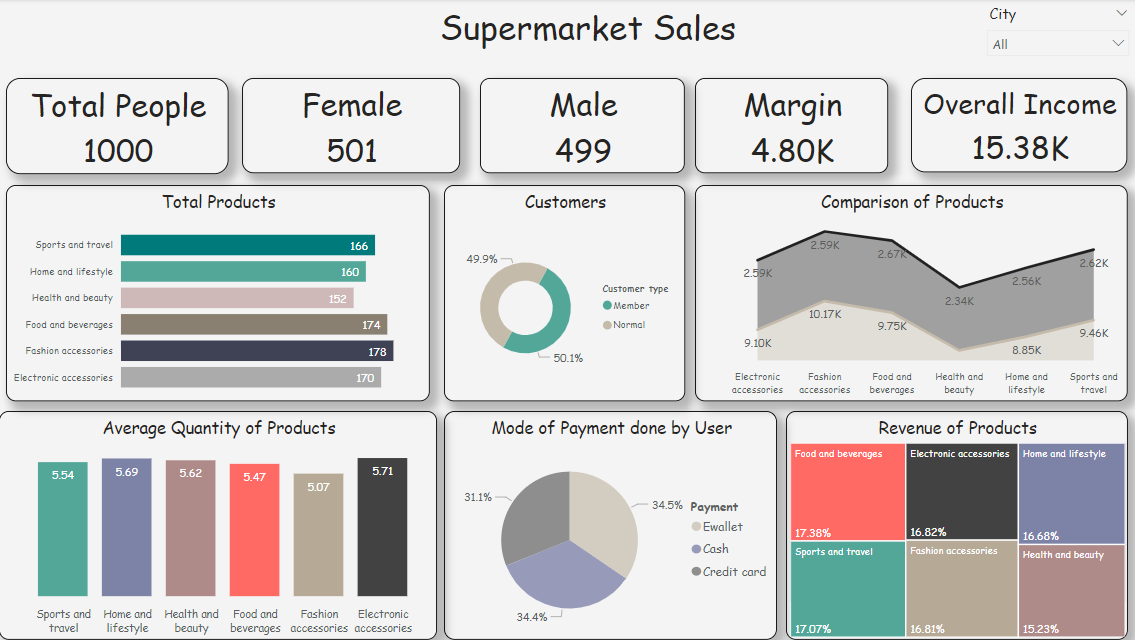

The dashboard page shown, as its layout file describes it:
{"tool":"powerbi","page":{"name":"Page 1","canvas":[1280,720],"ordinal":0},"visuals":[{"type":"card","title":"Total People ","fields":{"Values":["CountNonNull(SuperMarket Sales.Gender)"]},"box":[8.1,88.4,250,108.1],"z":0},{"type":"card","title":"Overall Income ","fields":{"Values":["Sum(SuperMarket Sales.gross income)"]},"box":[1024.4,88.4,243,105.8],"z":1000},{"type":"card","title":"Female","fields":{"Values":["CountNonNull(SuperMarket Sales.Gender)"]},"box":[273.3,88.4,245.3,107],"z":2000},{"type":"card","title":"Male","fields":{"Values":["CountNonNull(SuperMarket Sales.Gender)"]},"box":[540.7,88.4,230.2,107],"z":3000},{"type":"textbox","box":[464,0,419.8,73.3],"z":4000},{"type":"barChart","title":"Total Products ","fields":{"Category":["SuperMarket Sales.Product line"],"Y":["CountNonNull(SuperMarket Sales.Product line)"],"Series":["SuperMarket Sales.Product line"]},"box":[8.1,209.3,475.6,243],"z":5000},{"type":"donutChart","title":"Customers ","fields":{"Category":["SuperMarket Sales.Customer type"],"Y":["CountNonNull(SuperMarket Sales.Customer type)"]},"box":[500,209.3,270.9,243],"z":6000},{"type":"stackedAreaChart","title":"Comparison of Products ","fields":{"Category":["SuperMarket Sales.Product line"],"Y":["Sum(SuperMarket Sales.Unit price)","Sum(SuperMarket Sales.Tax 5%)"]},"box":[781.4,209.3,486,243],"z":7000},{"type":"columnChart","title":"Average Quantity of Products","fields":{"Category":["SuperMarket Sales.Product line"],"Series":["SuperMarket Sales.Product line"],"Y":["Avg(SuperMarket Sales.Quantity)"]},"box":[0,462.8,491.9,257],"z":8000},{"type":"pieChart","title":"Mode of Payment done by User ","fields":{"Category":["SuperMarket Sales.Payment"],"Y":["CountNonNull(SuperMarket Sales.Payment)"]},"box":[500,462.8,374.4,257],"z":9000},{"type":"card","title":"Margin","fields":{"Values":["Sum(SuperMarket Sales.Margin )"]},"box":[781.4,88.4,217.4,107],"z":10000},{"type":"treemap","title":"Revenue of Products","fields":{"Group":["SuperMarket Sales.Product line"],"Values":["Sum(SuperMarket Sales.gross income)"]},"box":[883.7,462.8,383.7,257],"z":11000},{"type":"slicer","fields":{"Values":["SuperMarket Sales.City"]},"box":[1100,0,180.2,73.3],"z":12000}]}

Visuals, with their boxes in screenshot pixels (x1, y1, x2, y2), scaled from the page's 1280x720 canvas onto the 1135x640 screenshot:
"Total People " card: <bbox>7, 79, 229, 175</bbox>
"Overall Income " card: <bbox>908, 79, 1124, 173</bbox>
"Female" card: <bbox>242, 79, 460, 174</bbox>
"Male" card: <bbox>479, 79, 684, 174</bbox>
textbox: <bbox>411, 0, 784, 65</bbox>
"Total Products " barChart: <bbox>7, 186, 429, 402</bbox>
"Customers " donutChart: <bbox>443, 186, 684, 402</bbox>
"Comparison of Products " stackedAreaChart: <bbox>693, 186, 1124, 402</bbox>
"Average Quantity of Products" columnChart: <bbox>0, 411, 436, 639</bbox>
"Mode of Payment done by User " pieChart: <bbox>443, 411, 775, 639</bbox>
"Margin" card: <bbox>693, 79, 886, 174</bbox>
"Revenue of Products" treemap: <bbox>784, 411, 1124, 639</bbox>
slicer - SuperMarket Sales.City: <bbox>975, 0, 1134, 65</bbox>
